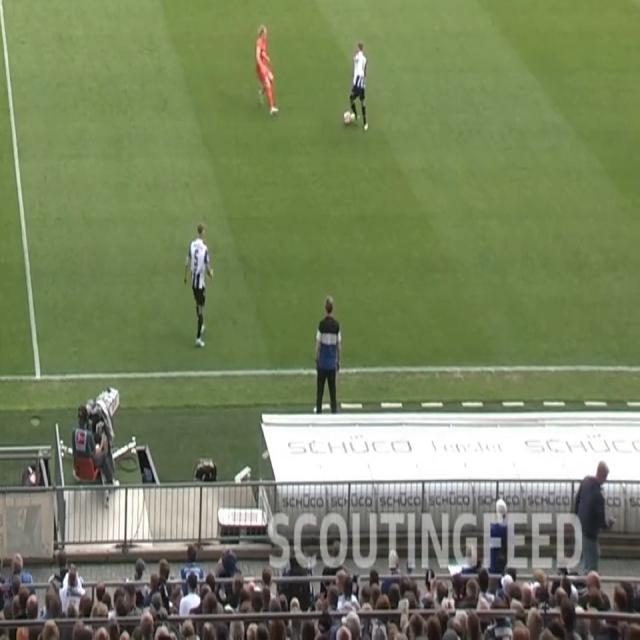ball: (343, 109, 352, 125)
